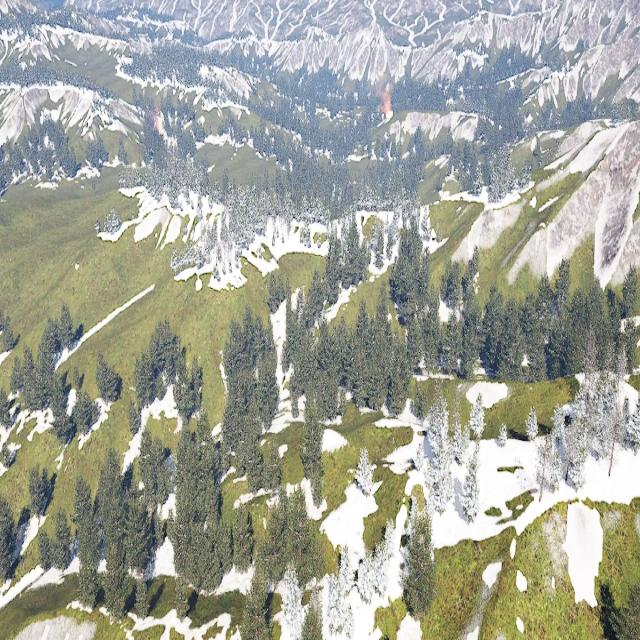fire: (154, 112, 163, 133), (382, 102, 393, 118)
smoke: (375, 66, 393, 99)
